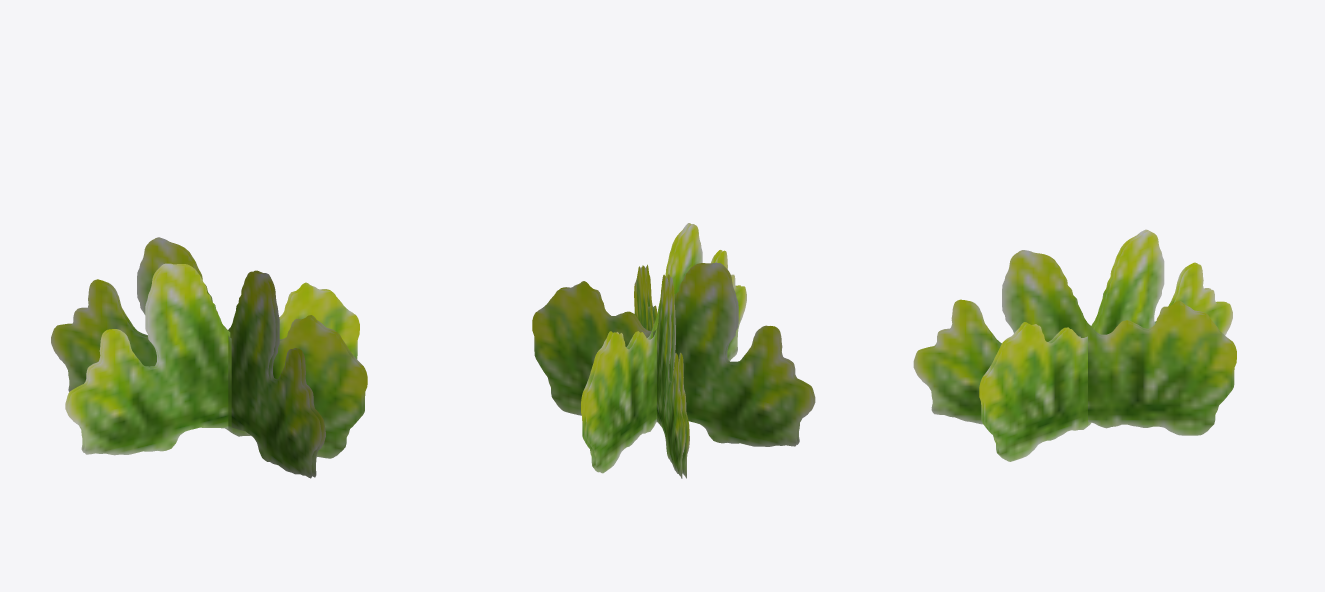
The model's file is Grass8.fbx.
3 views of the same model, side by side, from view 1: azimuth 30°, elevation 25°; view 2: azimuth 150°, elevation 25°; view 3: azimuth 270°, elevation 25° (orthographic). The views are drawn at different scales.
Visible parts, largest first — view 1: Grass8; view 2: Grass8; view 3: Grass8.
Boxes of the visible parts, x1,y1,x2,y2 form: Grass8: [51, 237, 367, 478]; Grass8: [532, 223, 815, 478]; Grass8: [913, 229, 1236, 461].
Size of the model in its own units: 378 by 365 by 378.
1 material, 1 textured.
